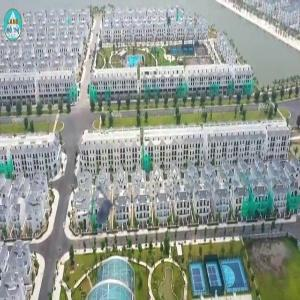drone: (54, 171, 135, 252)
